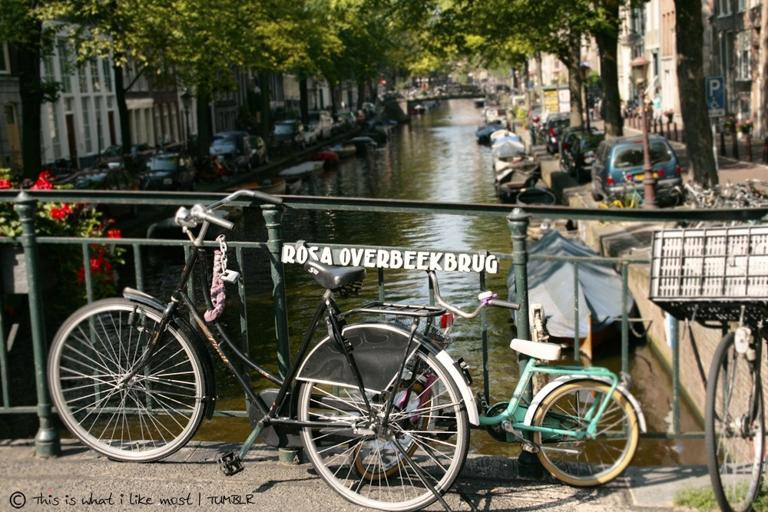non-vehicle: (42, 185, 481, 511), (350, 264, 648, 490), (646, 209, 768, 511)
